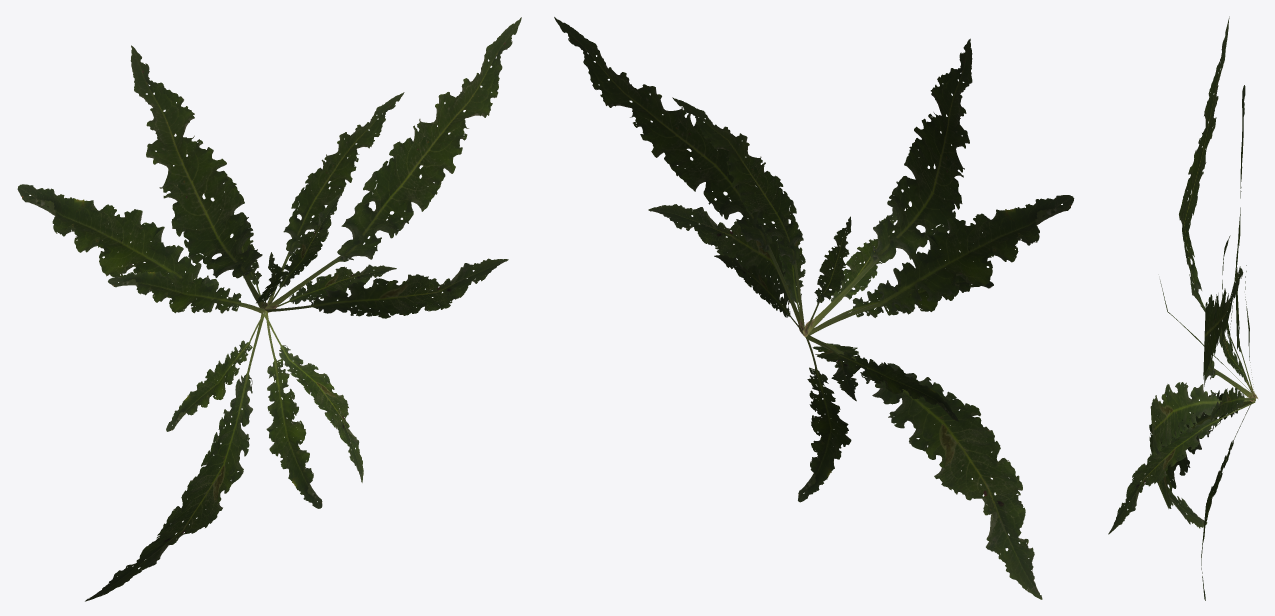
File: Weed_03_Var2_LOD1.fbx
3 views of the same model, side by side, from view 1: azimuth 30°, elevation 25°; view 2: azimuth 150°, elevation 25°; view 3: azimuth 270°, elevation 25° (orthographic). The views are drawn at different scales.
Visible parts, largest first — view 1: Var2_LOD1; view 2: Var2_LOD1; view 3: Var2_LOD1.
Part boxes in pixels (bbox=[...]): Var2_LOD1: bbox=[17, 17, 521, 601]; Var2_LOD1: bbox=[554, 17, 1074, 599]; Var2_LOD1: bbox=[1108, 16, 1257, 600].
Bounding box in the file's own units: 51.69 × 52.56 × 13.46.
